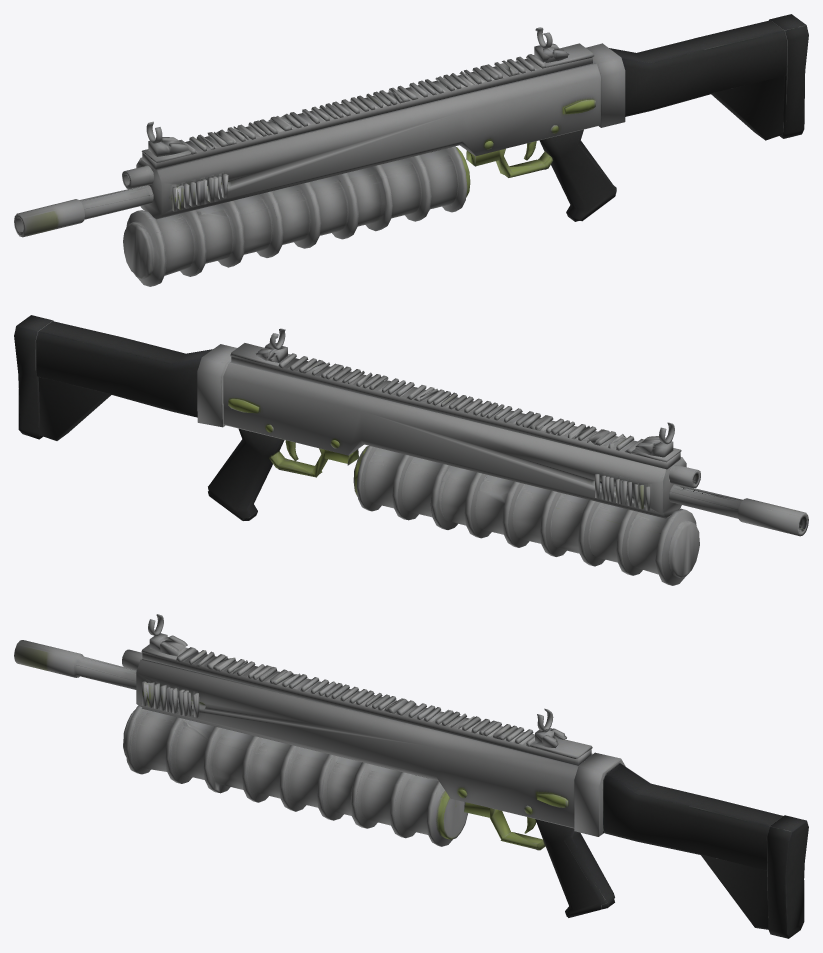
Rendered from smg_mantis.glb.
3 views of the same model, one above another, from view 1: azimuth 30°, elevation 25°; view 2: azimuth 150°, elevation 25°; view 3: azimuth 330°, elevation 25° (orthographic).
Bounding box in the file's own units: 0.9575 × 0.229 × 0.0791.
Materials: 1 (1 with a texture image).
